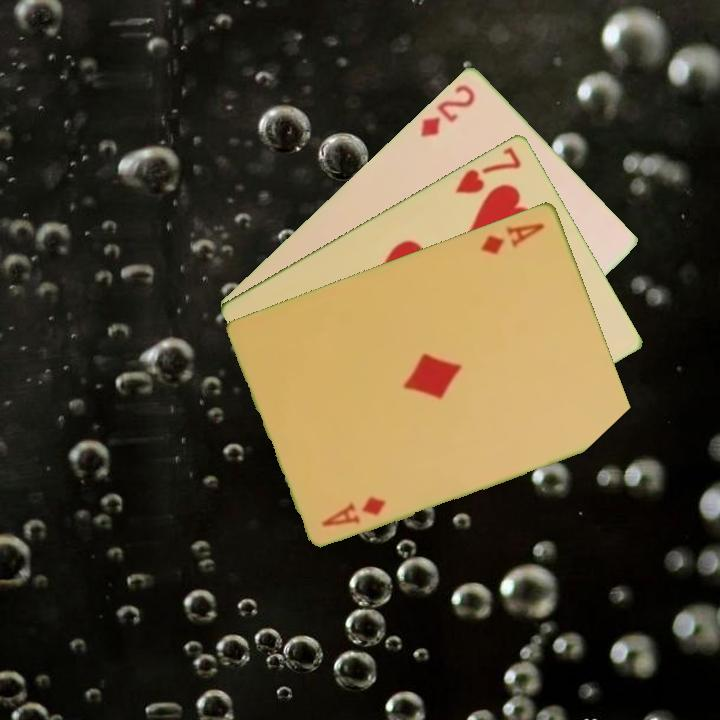2d: (416, 80, 478, 140)
7h: (452, 142, 525, 196)
Ad: (477, 218, 548, 258), (319, 492, 390, 529)
